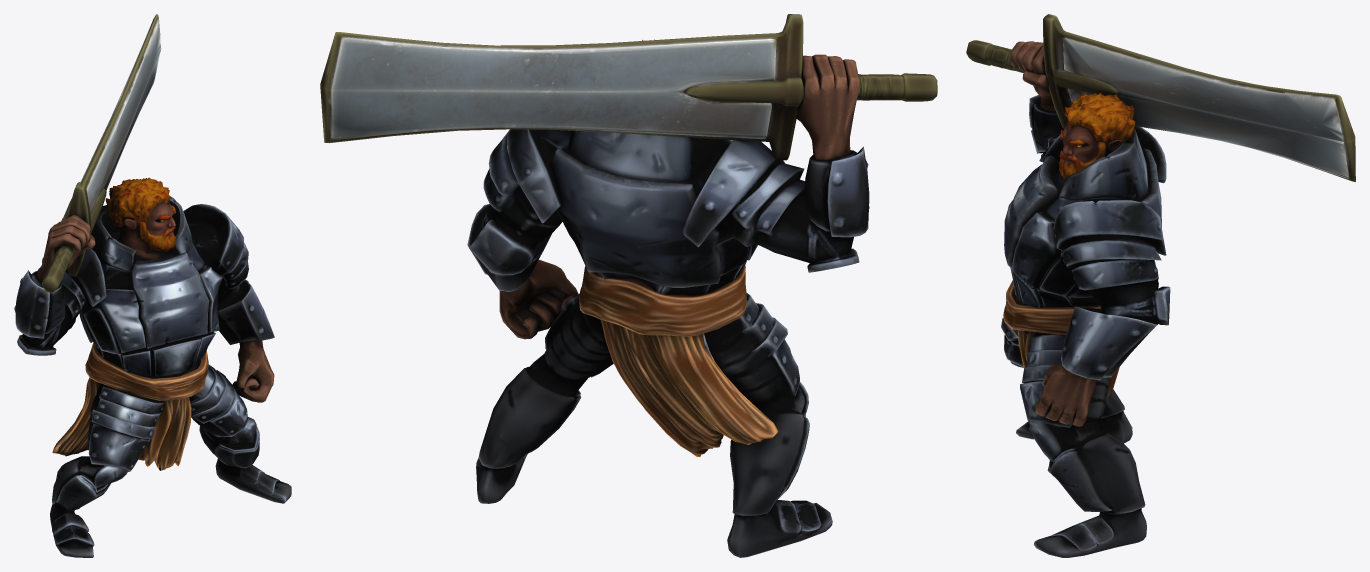
Rendered from Fire Giant Male.glb.
3 views of the same model, side by side, from view 1: azimuth 30°, elevation 25°; view 2: azimuth 150°, elevation 25°; view 3: azimuth 270°, elevation 25° (orthographic). The views are drawn at different scales.
Visible parts, largest first — view 1: body_low.001; view 2: body_low.001; view 3: body_low.001.
Boxes of the visible parts, x1=… form: body_low.001: x1=14, y1=14, x2=291, y2=557; body_low.001: x1=320, y1=14, x2=937, y2=557; body_low.001: x1=966, y1=14, x2=1355, y2=557.
Bounding box in the file's own units: 9.38 × 12.4 × 9.59.
Materials: 1 (1 with a texture image).
